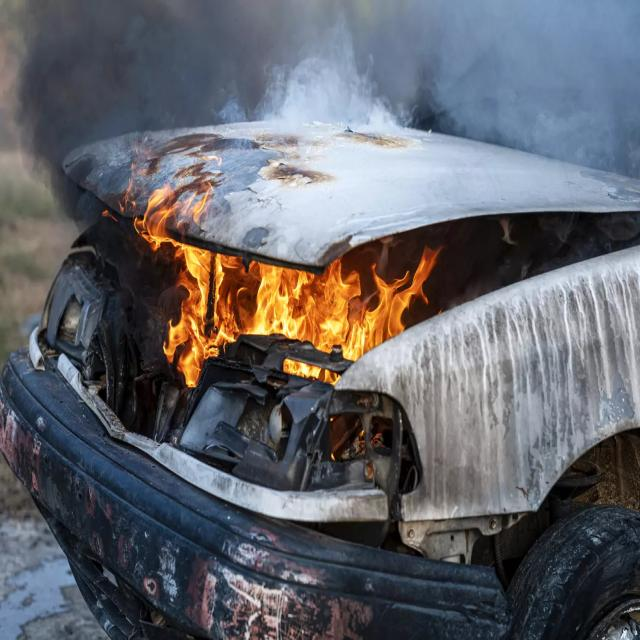fire: (163, 240, 437, 388), (134, 184, 179, 250)
